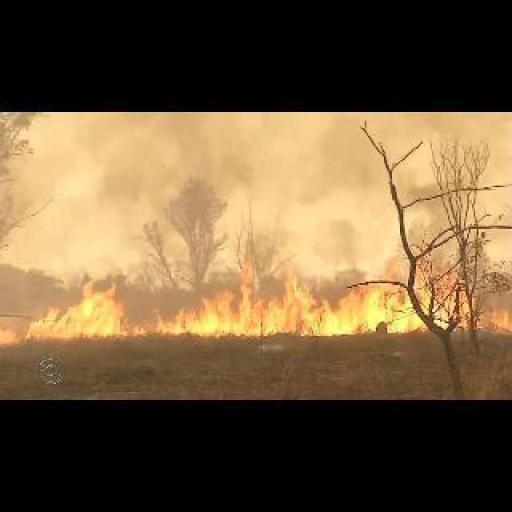smoke: (154, 270, 478, 333), (37, 286, 142, 341), (488, 304, 509, 333)
